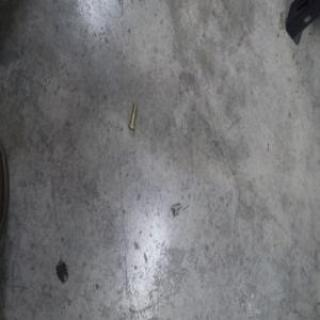Bolttrack_idkeyframe: (127, 101, 136, 131)
